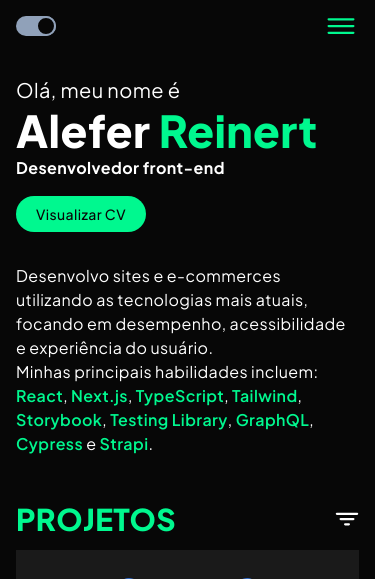
Mobile › Open and close menu
The width and height of the screenshot is (375, 579).
Step 1. Click the button named "Abrir menu" → [341, 26], box [323, 8, 359, 44]
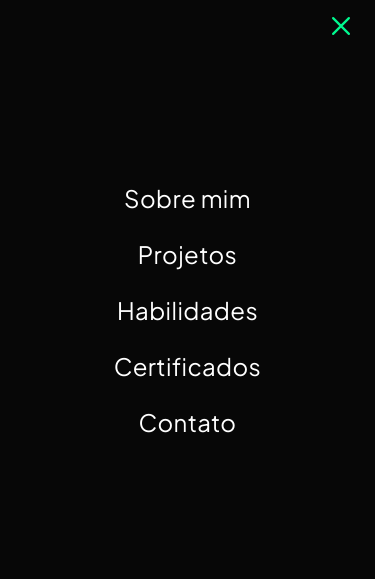
Check: the navigation bar with test id "NavMenuComponent" is shown, box [114, 182, 262, 438]
Step 2. Click the button named "Fechar menu" → [341, 26], box [323, 8, 359, 44]
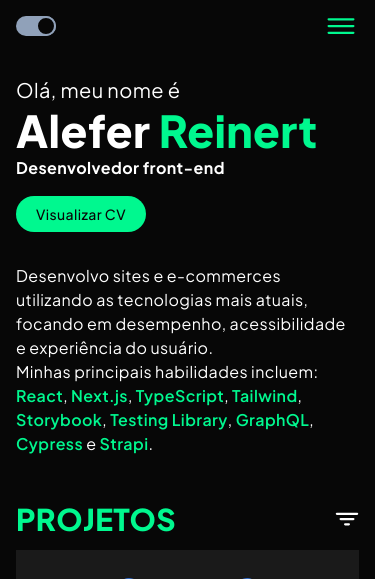
Check: the navigation bar with test id "NavMenuComponent" is gone
